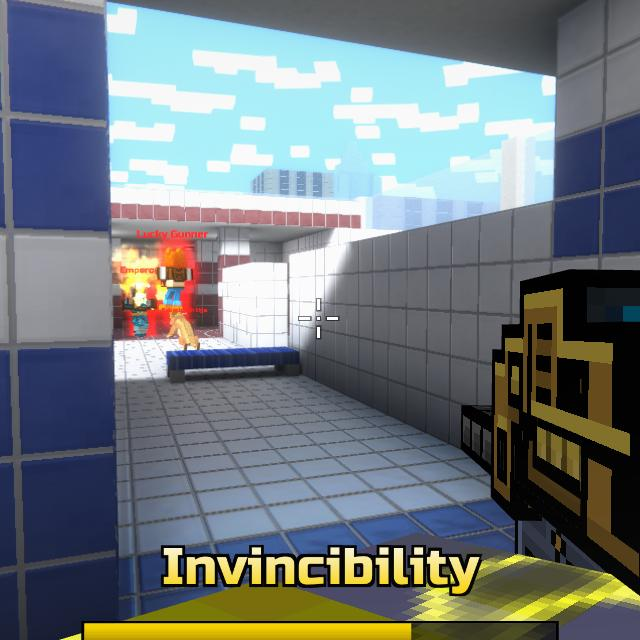Enemy: (157, 247, 193, 311), (122, 285, 157, 338)
